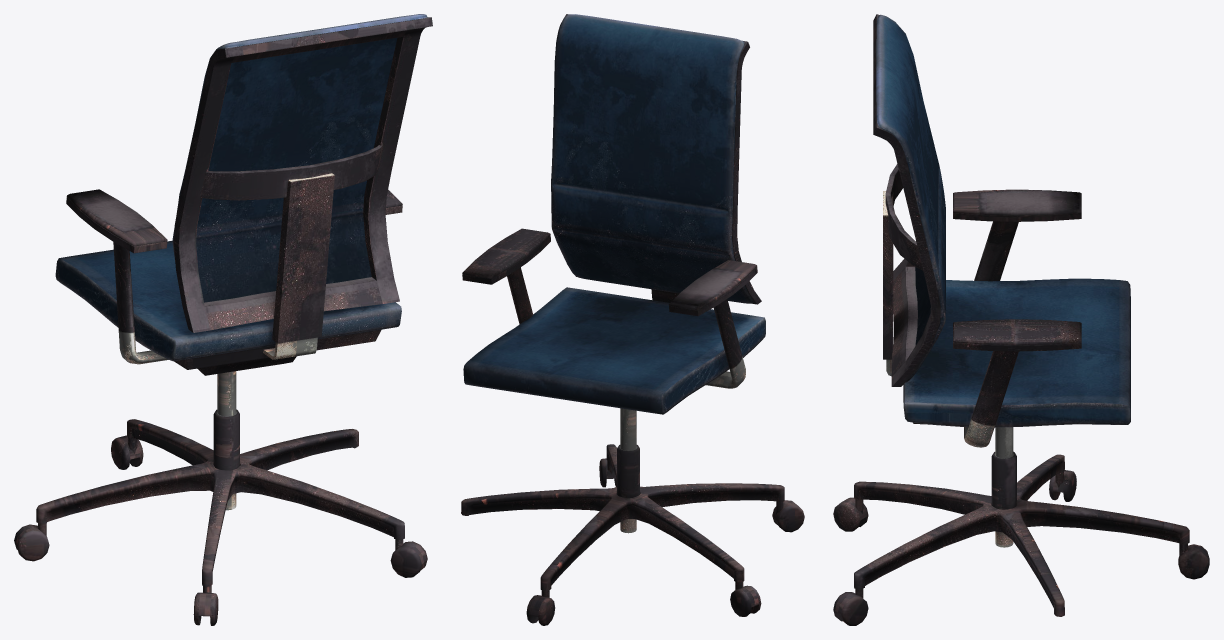
The model's file is trash_gagu004.fbx.
3 renders of one model, left to right at view 1: azimuth 30°, elevation 25°; view 2: azimuth 150°, elevation 25°; view 3: azimuth 270°, elevation 25°, orthographic. The views are drawn at different scales.
Parts seen in each view (by area): view 1: trash_gagu004; view 2: trash_gagu004; view 3: trash_gagu004.
Part boxes in pixels (left/top/right/bottom): trash_gagu004: left=14, top=14, right=432, bottom=625; trash_gagu004: left=461, top=14, right=804, bottom=625; trash_gagu004: left=833, top=14, right=1209, bottom=625.
Size of the model in its own units: 71.52 by 72.02 by 112.
